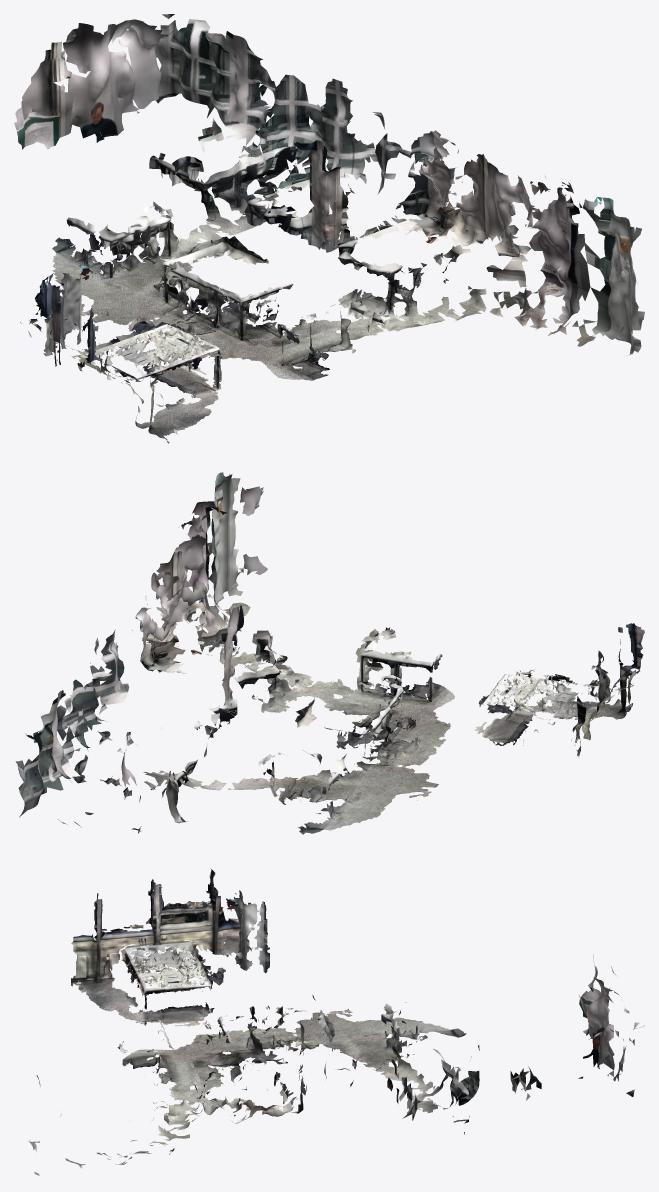
File: 141425-demo-tex.glb
The picture shows the model from 3 angles, top to bottom: view 1: azimuth 30°, elevation 25°; view 2: azimuth 150°, elevation 25°; view 3: azimuth 270°, elevation 25°; orthographic projection. The views are drawn at different scales.
Parts seen in each view (by area): view 1: Node; view 2: Node; view 3: Node.
Part boxes in pixels (<box>): Node: <box>14,14,644,443</box>; Node: <box>15,472,644,834</box>; Node: <box>28,869,644,1175</box>.
Bounding box in the file's own units: 10.37 × 2.8 × 13.01.
Materials: 13 (13 with a texture image).
